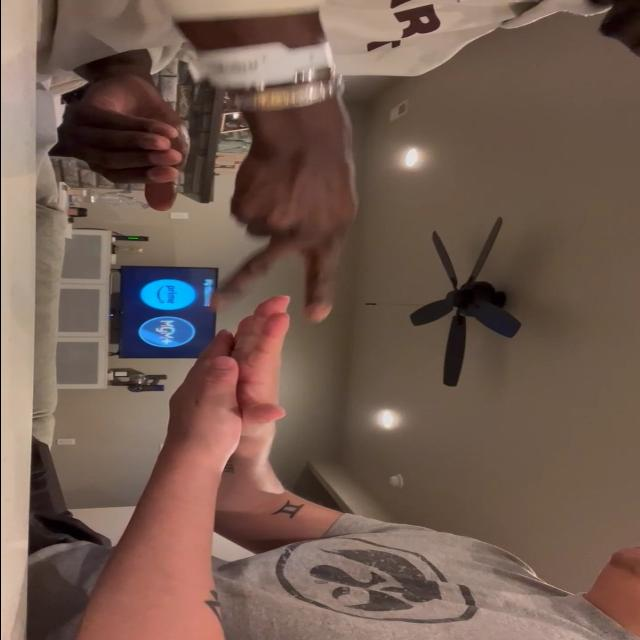Paper: (234, 293, 298, 439)
Scissors: (204, 131, 358, 324)
